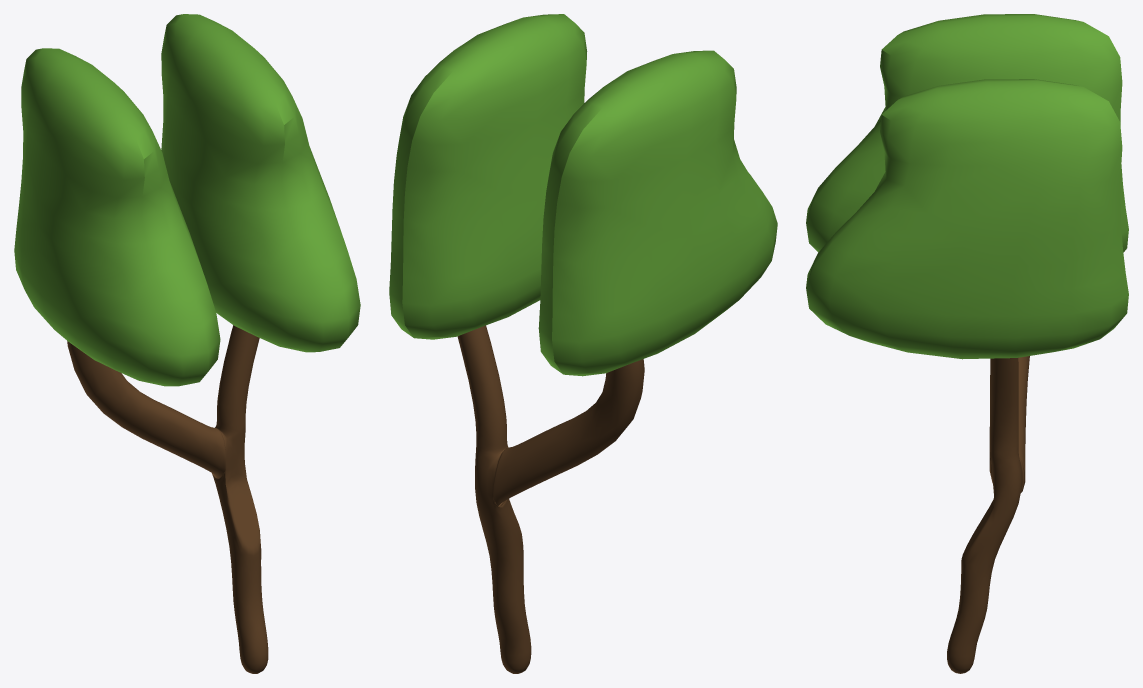
File: Tree 6.fbx
3 views of the same model, side by side, from view 1: azimuth 30°, elevation 25°; view 2: azimuth 150°, elevation 25°; view 3: azimuth 270°, elevation 25° (orthographic). The views are drawn at different scales.
Visible parts, largest first — view 1: Cube; view 2: Cube; view 3: Cube.
Part boxes in pixels (x1,y1,x2,y2): Cube: (14,14,360,673); Cube: (389,14,777,673); Cube: (806,14,1128,673).
Bounding box in the file's own units: 477 × 1070 × 533.
